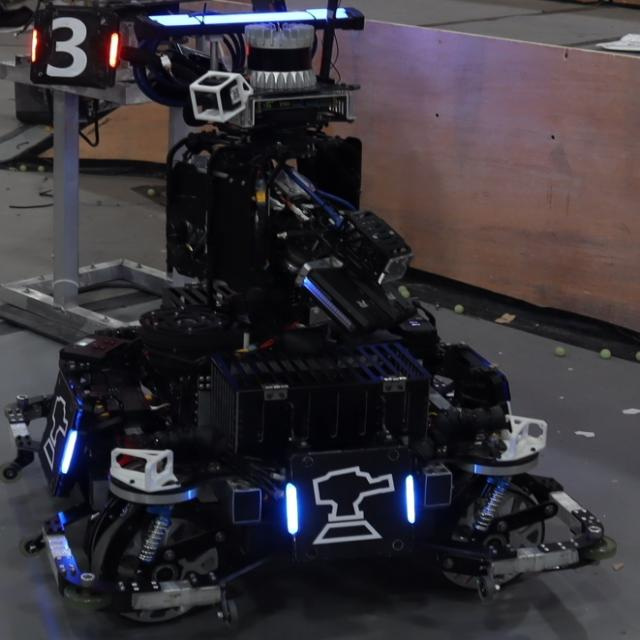Bs: (287, 456, 420, 549), (44, 384, 82, 473)
R3: (29, 16, 116, 78)
